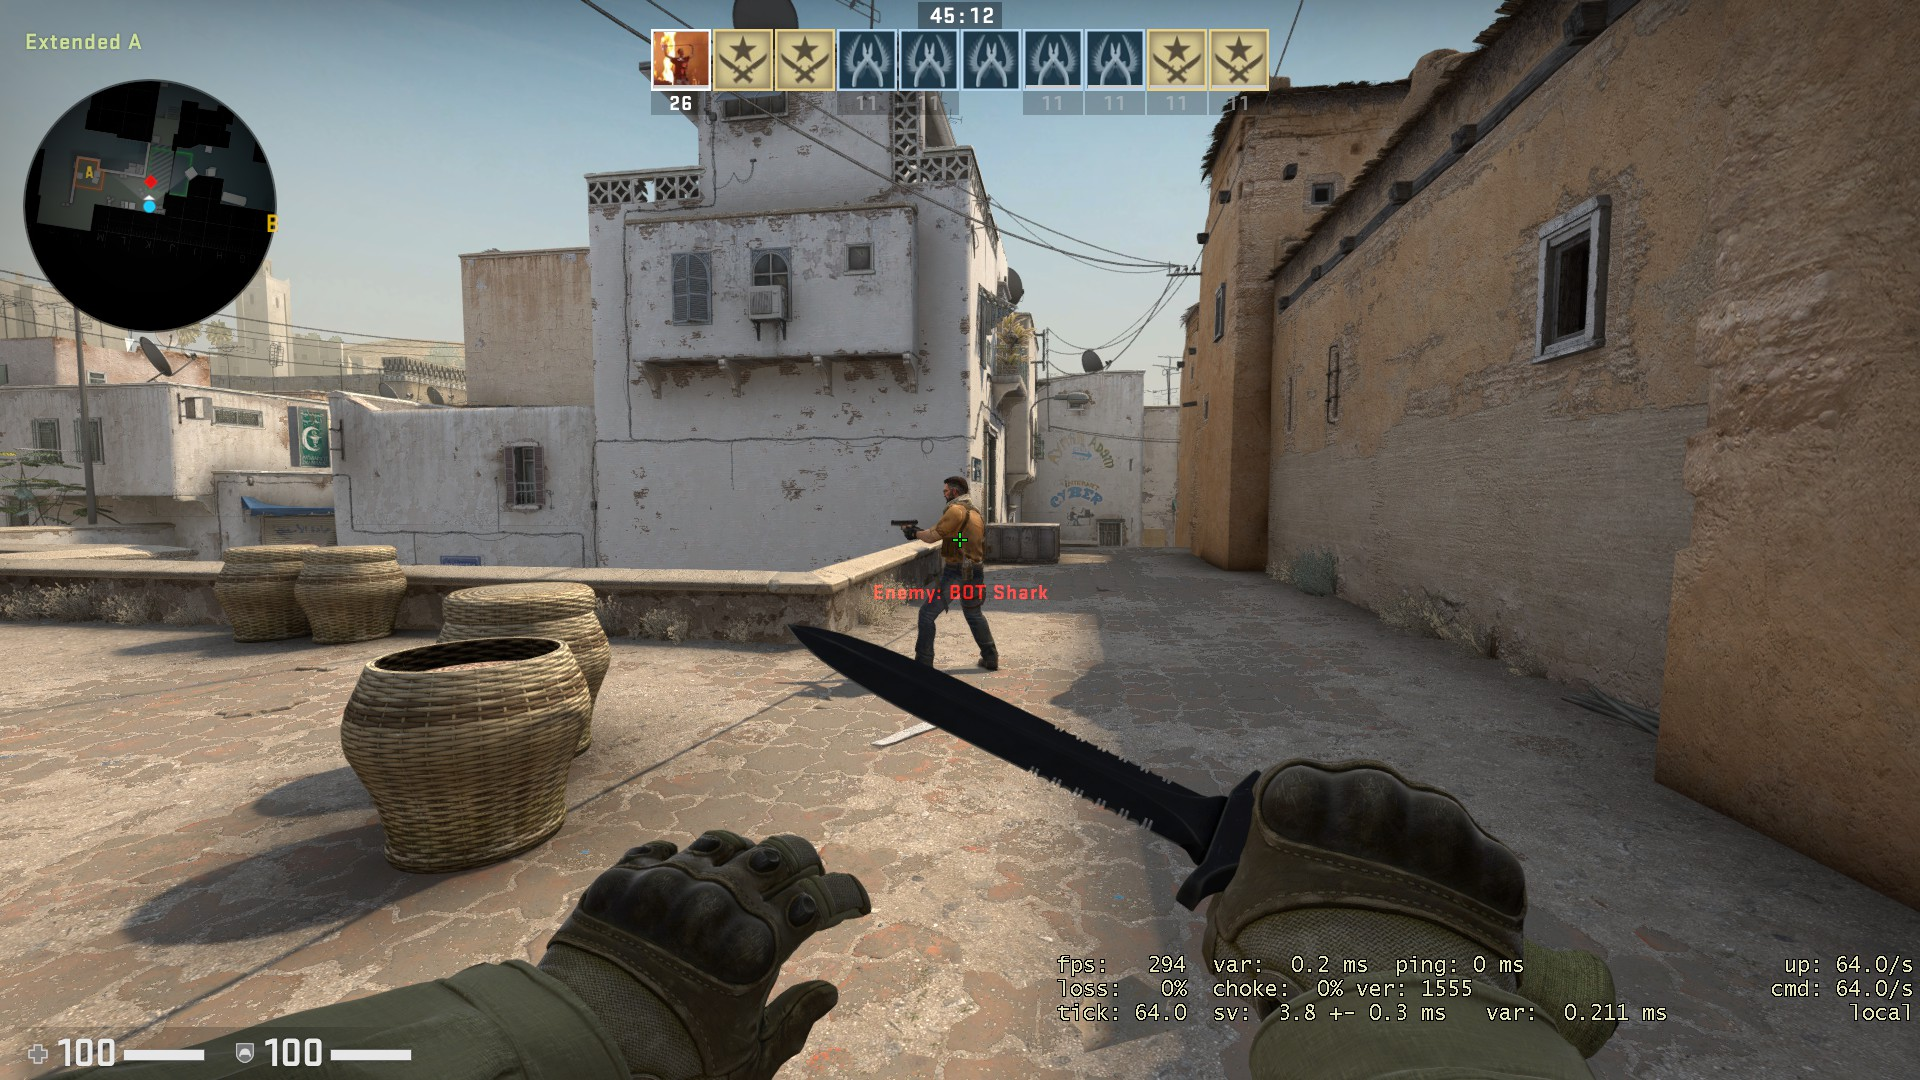player: (884, 472, 1004, 675)
